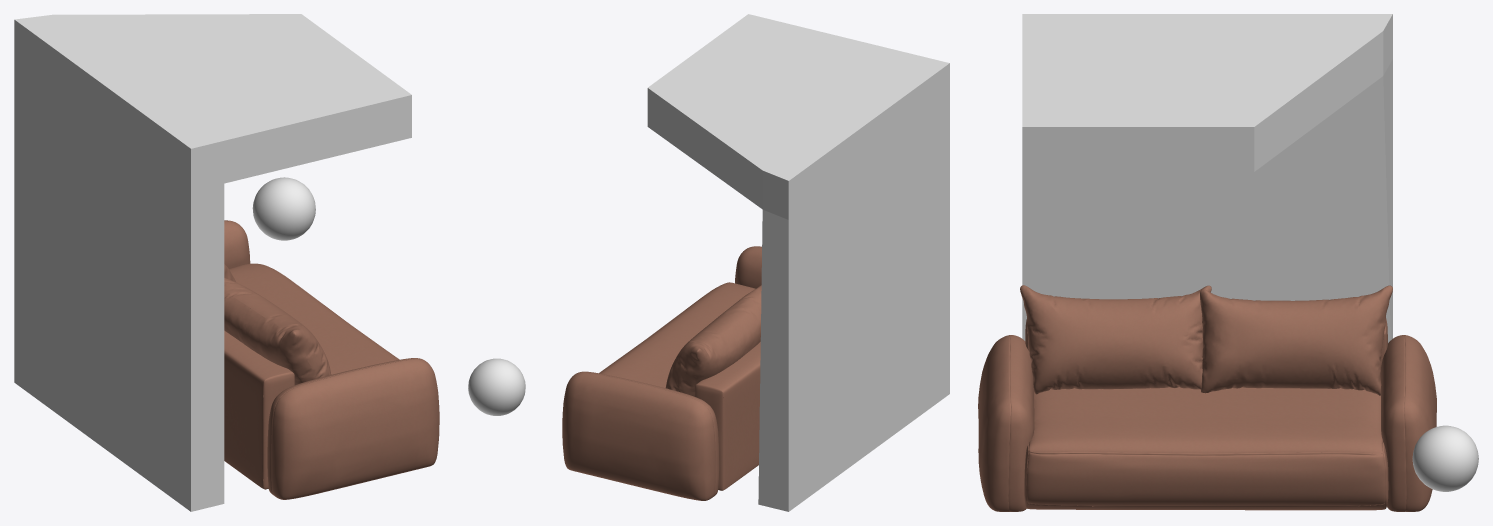
The picture shows the model from 3 angles, left to right: view 1: azimuth 30°, elevation 25°; view 2: azimuth 150°, elevation 25°; view 3: azimuth 270°, elevation 25°; orthographic projection. The views are drawn at different scales.
Parts seen in each view (by area): view 1: Cube.001, lamiasofaamalfi3s.002, Sphere; view 2: Cube.001, lamiasofaamalfi3s.002, Sphere; view 3: Cube.001, lamiasofaamalfi3s.002, Sphere.
Boxes of the visible parts, box(x1,y1,x2,y2) form: Cube.001: box(14, 14, 411, 511); lamiasofaamalfi3s.002: box(224, 220, 439, 499); Sphere: box(252, 177, 315, 240); Cube.001: box(647, 14, 949, 511); lamiasofaamalfi3s.002: box(562, 246, 761, 500); Sphere: box(468, 358, 525, 415); Cube.001: box(1022, 14, 1392, 342); lamiasofaamalfi3s.002: box(978, 285, 1436, 511); Sphere: box(1412, 425, 1478, 491).
Size of the model in its own units: 2.11 by 2.27 by 2.7.
Materials: 2 (1 with a texture image).
